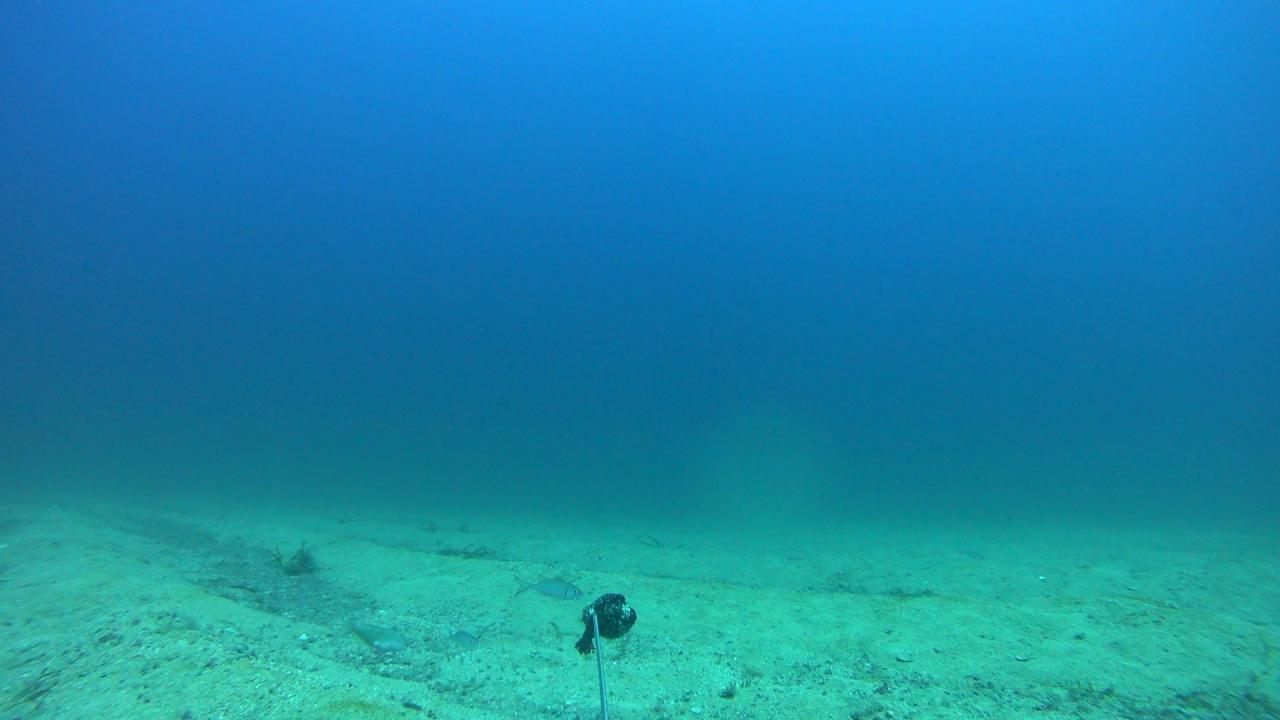pagellus: (513, 574, 580, 601)
raor: (340, 614, 405, 656)
